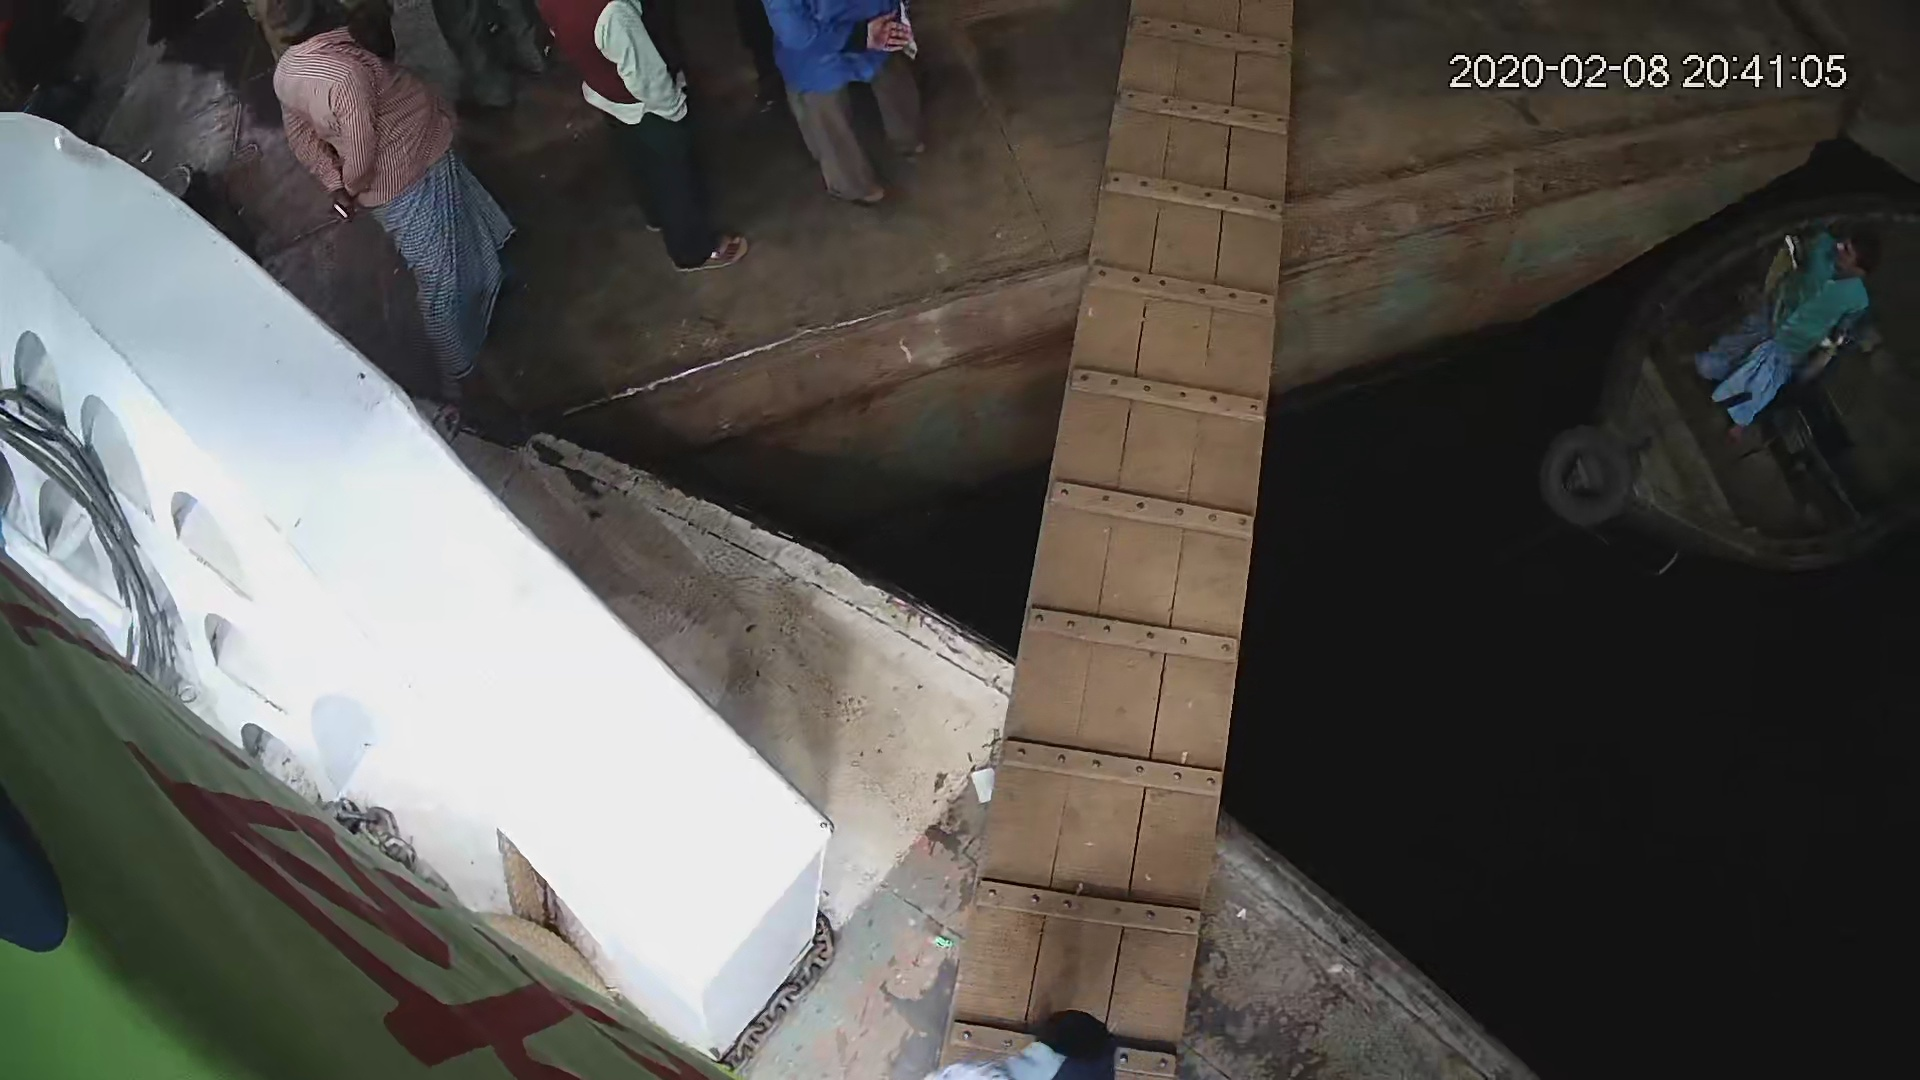person: (263, 1, 521, 399), (536, 5, 750, 276), (1684, 211, 1879, 439)
